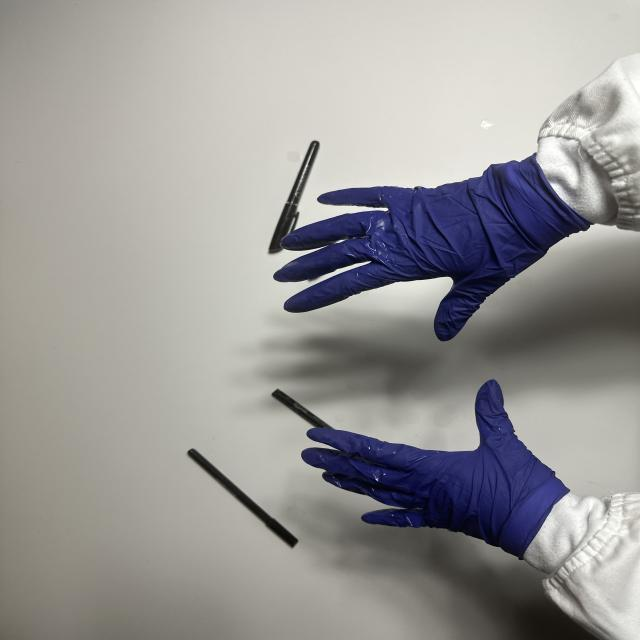gloves_contaminated: (274, 156, 589, 341), (302, 380, 568, 559)
